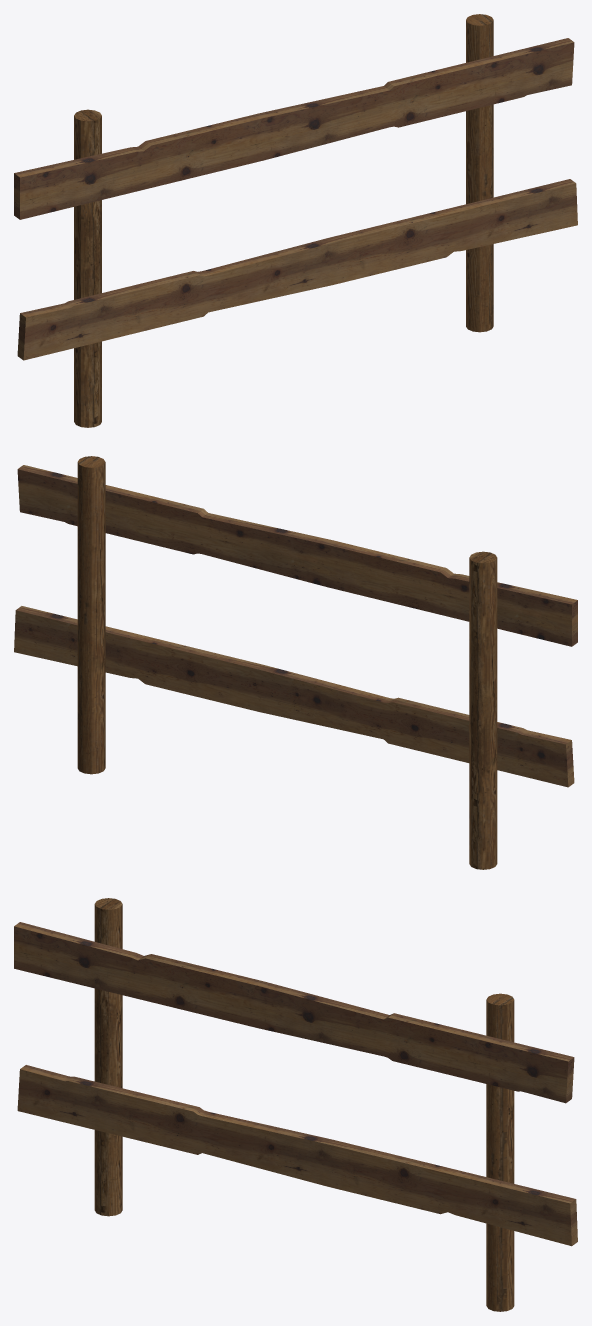
The model's file is Fence1.fbx.
The picture shows the model from 3 angles, top to bottom: view 1: azimuth 30°, elevation 25°; view 2: azimuth 150°, elevation 25°; view 3: azimuth 330°, elevation 25°; orthographic projection.
Visible parts, largest first — view 1: Fence1; view 2: Fence1; view 3: Fence1.
Part boxes in pixels (x1,y1,x2,y2): Fence1: [14, 14, 577, 427]; Fence1: [14, 456, 577, 869]; Fence1: [14, 898, 577, 1311].
Size of the model in its own units: 498 by 261 by 31.39.
1 material, 1 textured.
